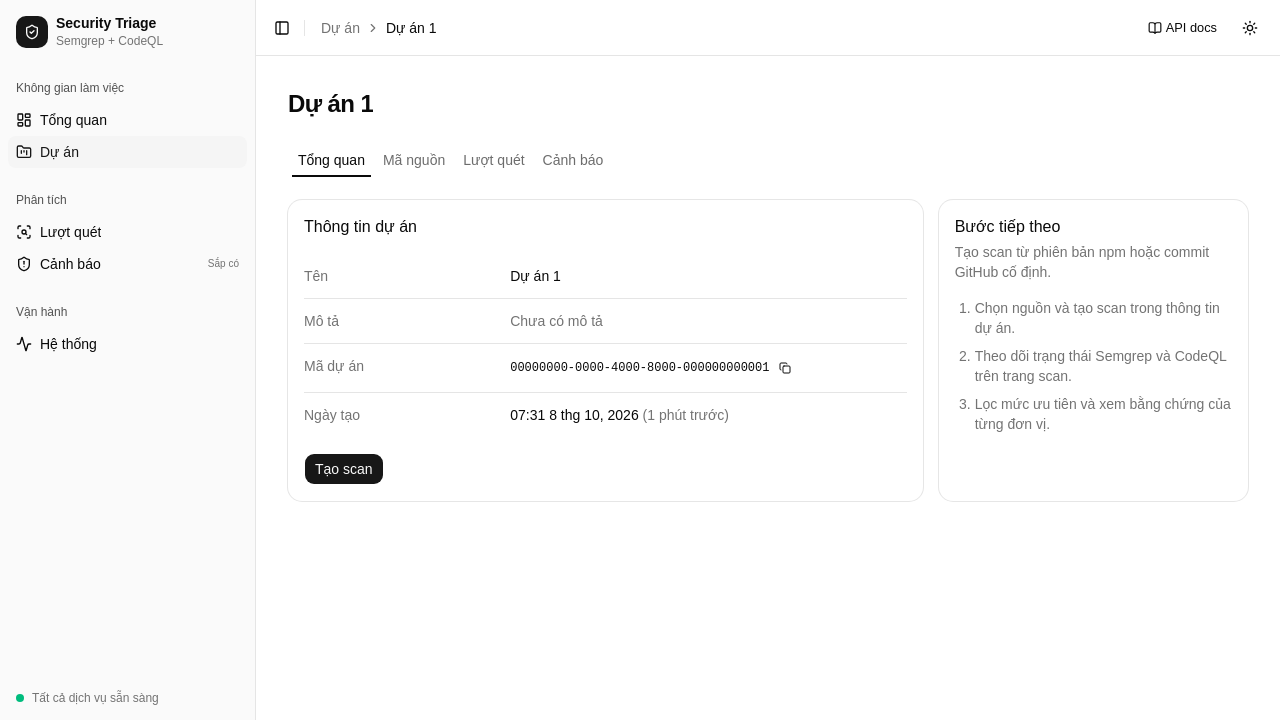
Create scan dialog › blocks invalid npm names and version ranges without sending a request
Click the button "Tạo scan" at (344, 469), box [304,453,384,485]
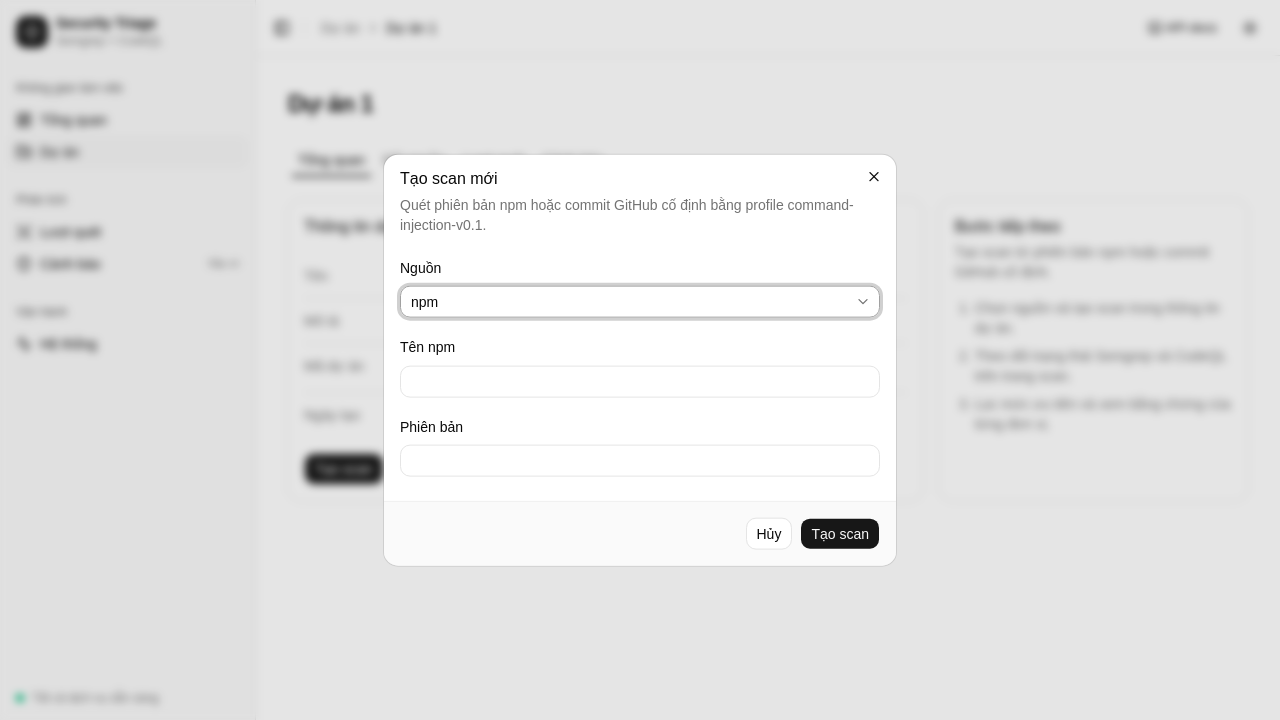
Type "@Scope/pkg" into the field labelled "Tên npm" at (640, 381), box [400,365,880,397]
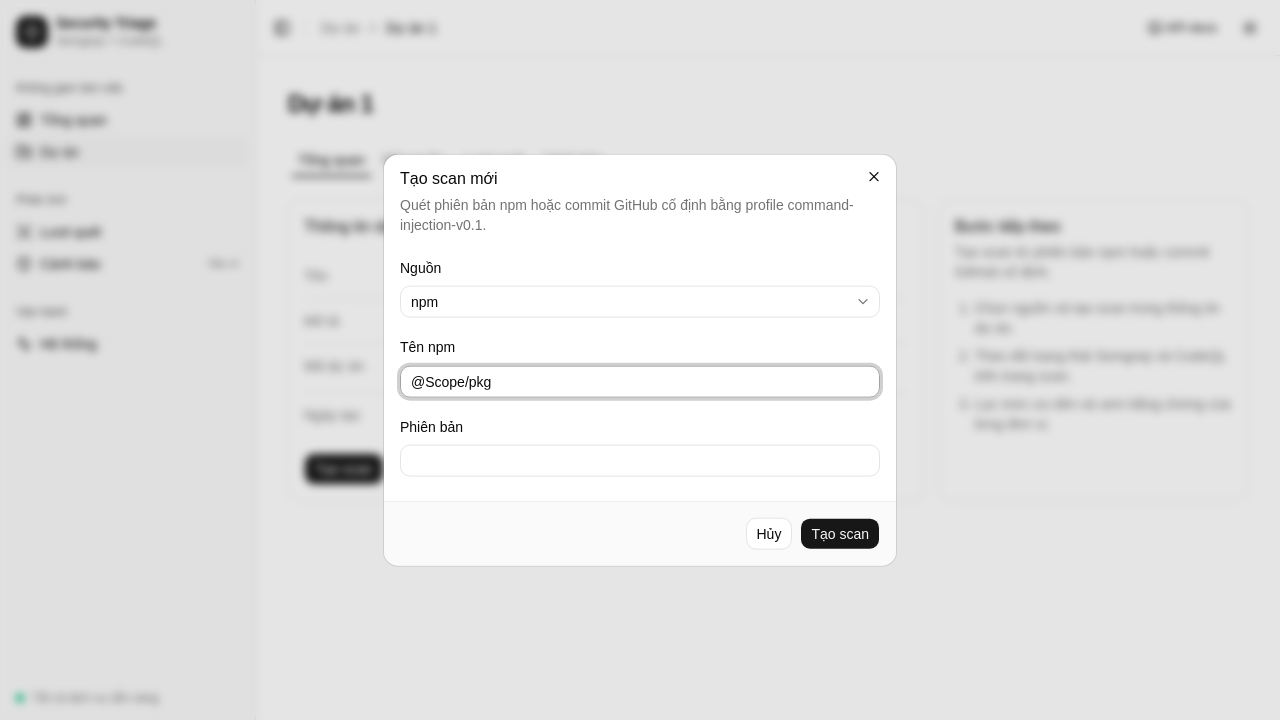
Type "^1.2.3" into the field labelled "Phiên bản" at (640, 460), box [400,444,880,476]
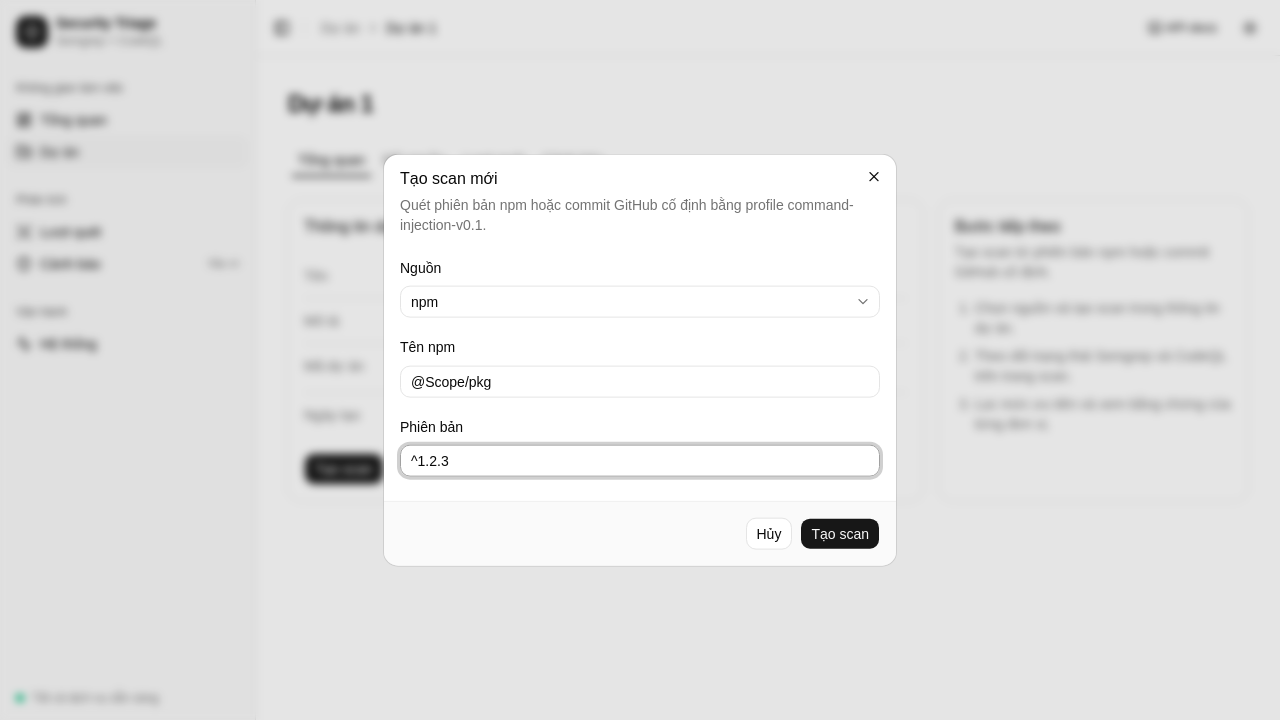
Click the button "Tạo scan" at (840, 533), box [800,517,880,549]
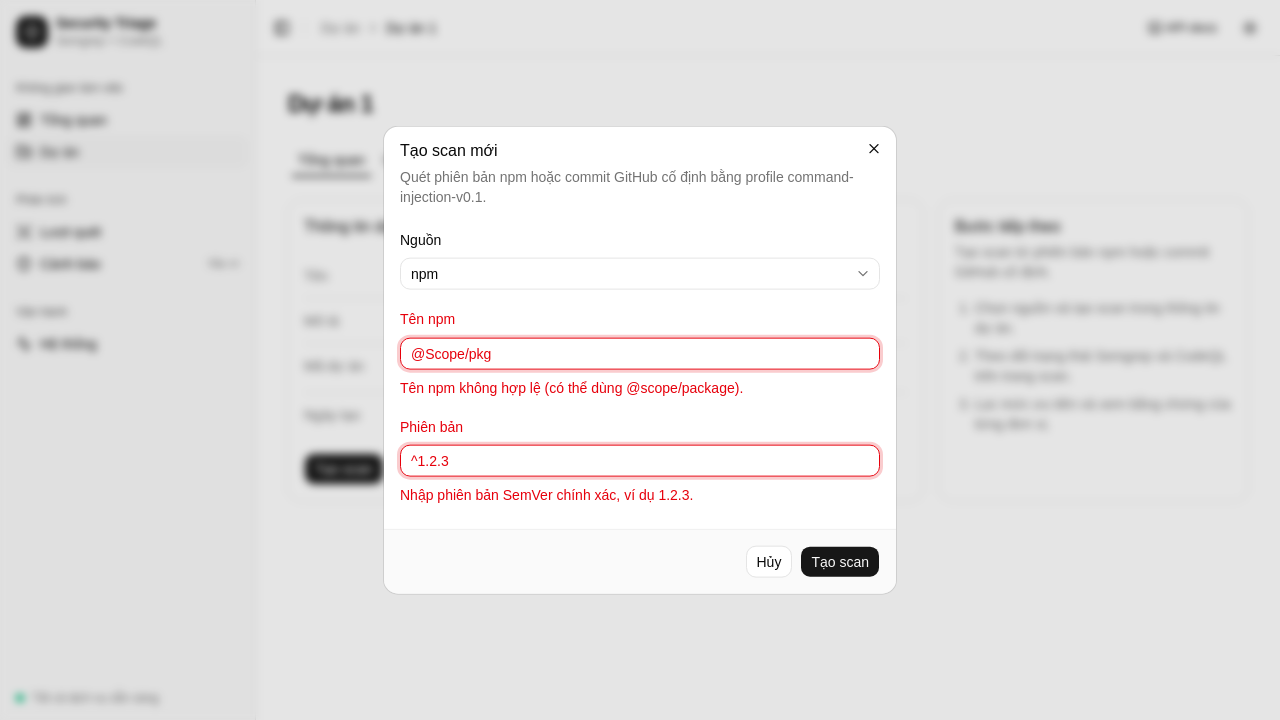
Expected: the text "Tên npm không hợp lệ (có thể dùng @scope/package)." is shown, [400,379,743,395]
